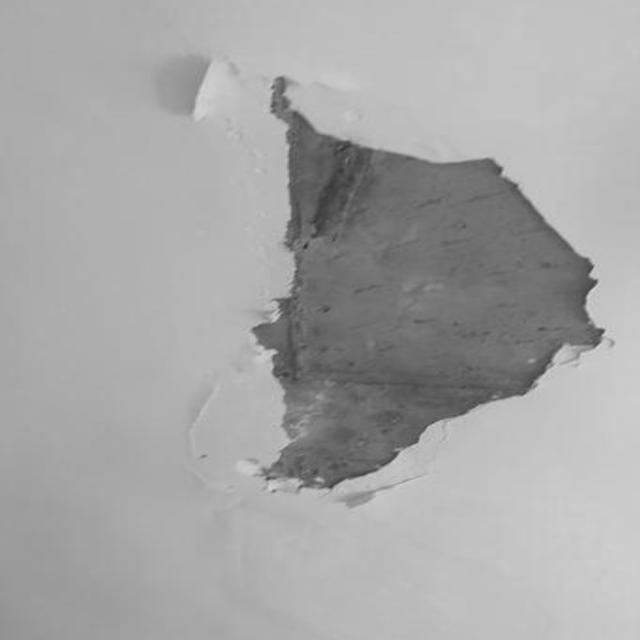peeling paint: (147, 31, 640, 529)
